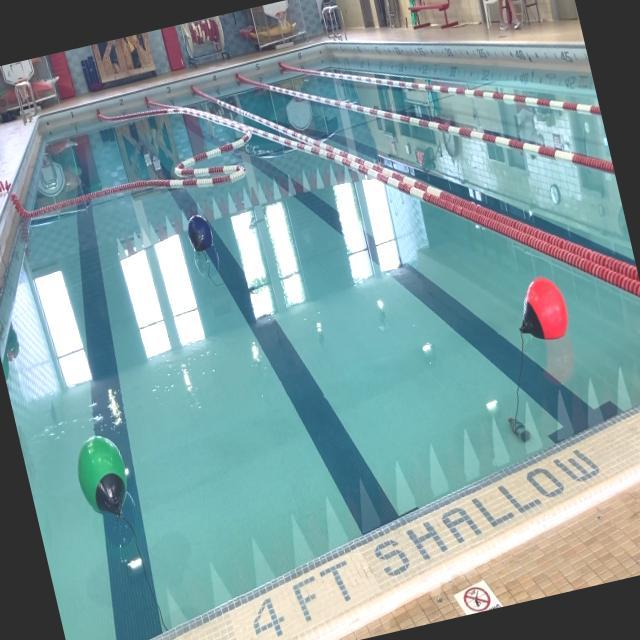buoy: (68, 427, 135, 524), (509, 271, 574, 344), (183, 210, 216, 252)
